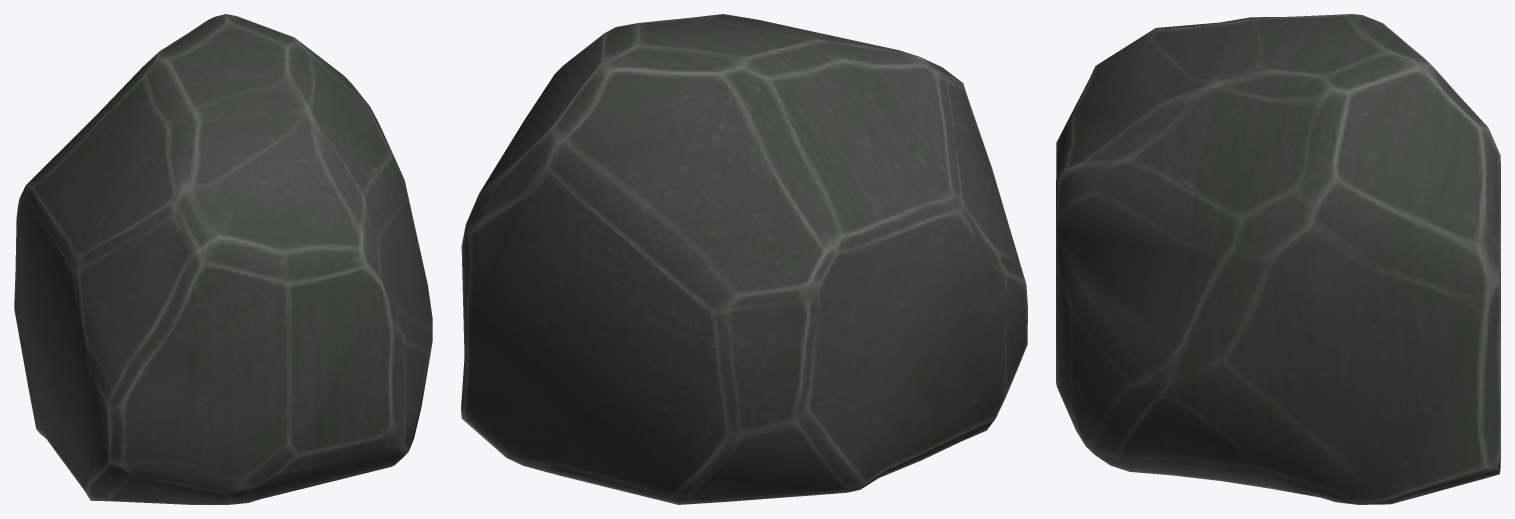
The model's file is Stylized rocks 1.fbx.
3 renders of one model, left to right at view 1: azimuth 30°, elevation 25°; view 2: azimuth 150°, elevation 25°; view 3: azimuth 270°, elevation 25°, orthographic. The views are drawn at different scales.
Visible parts, largest first — view 1: Stylized Rocks 1; view 2: Stylized Rocks 1; view 3: Stylized Rocks 1.
Boxes of the visible parts, x1,y1,x2,y2 form: Stylized Rocks 1: (14,14,432,504); Stylized Rocks 1: (461,14,1027,504); Stylized Rocks 1: (1056,14,1500,504).
Bounding box in the file's own units: 532 × 523 × 532.
Materials: 1 (1 with a texture image).
